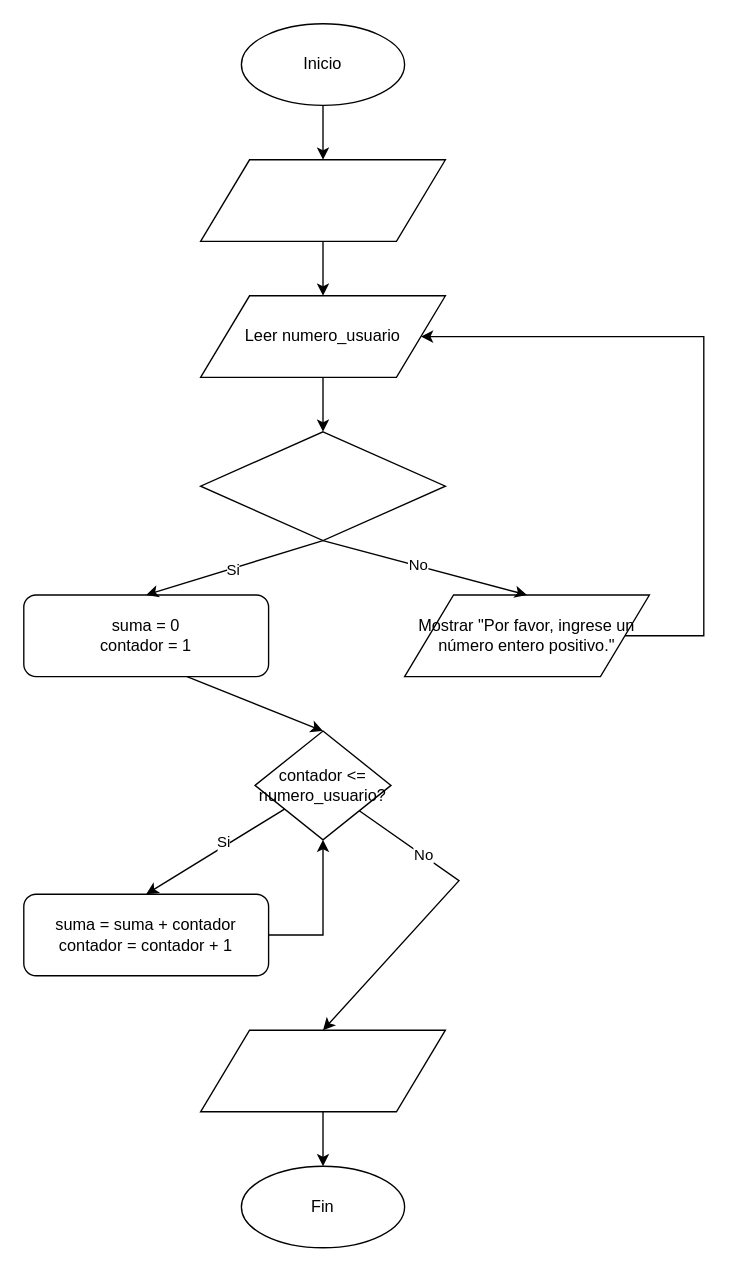
The diagram is 738 pixels wide and 1272 high, and some of its shapes have lost their labels. Here are the shapes that lost their labels. From the top down, the box of each, then its label:
(199, 158, 445, 241): Ingrese un número entero positivo:
(199, 430, 445, 541): numero_usuario > 0?
(199, 1029, 445, 1112): Mostrar "La suma de los números desde 1 hasta" numero_usuario "es:" suma
